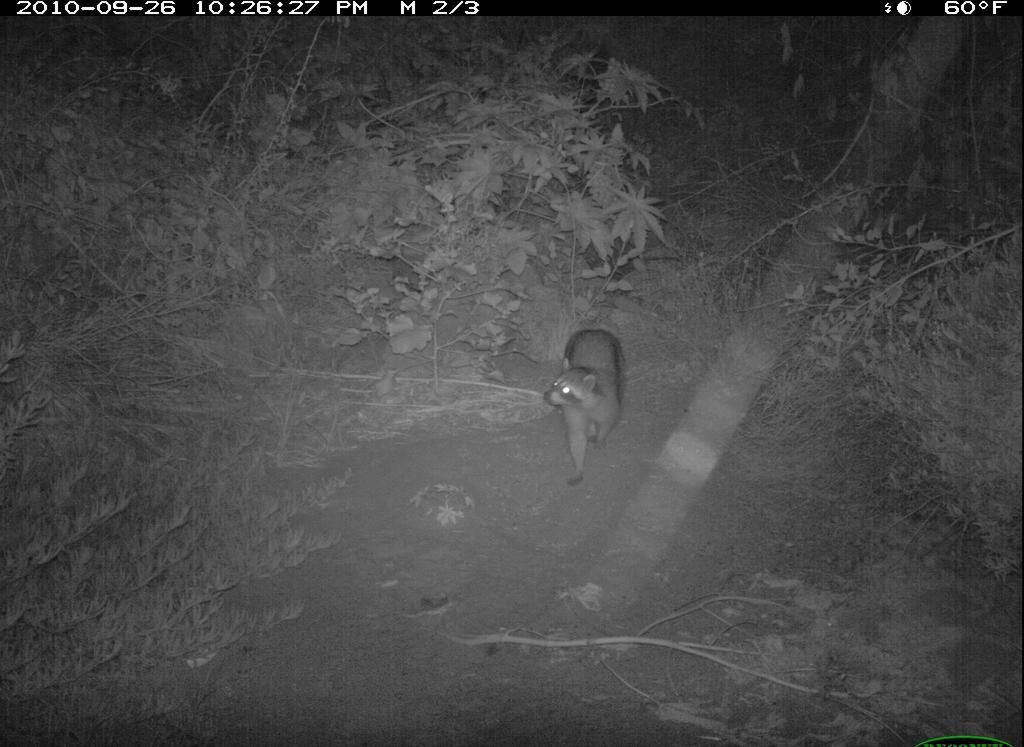raccoon: (546, 328, 626, 491)
